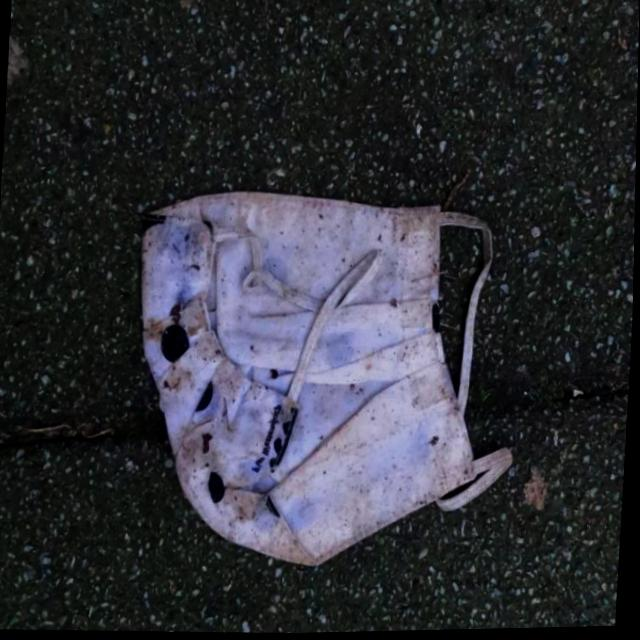Mask: (118, 169, 537, 584)
